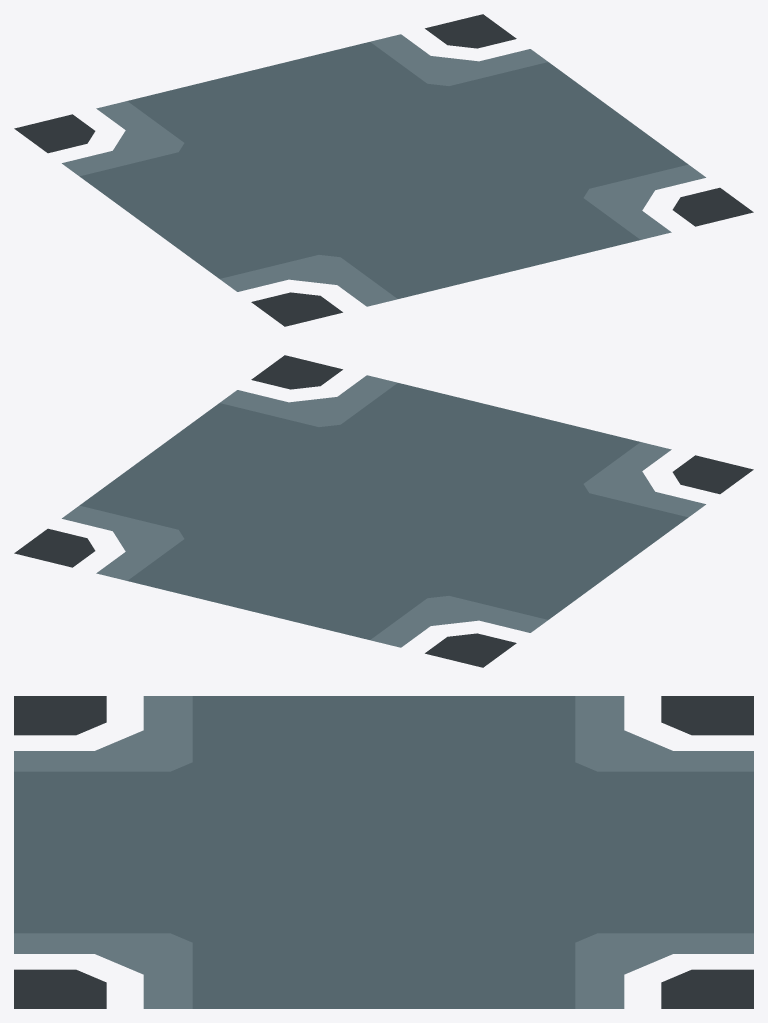
Rendered from Ceiling_type_C_055.glb.
3 views of the same model, one above another, from view 1: azimuth 30°, elevation 25°; view 2: azimuth 150°, elevation 25°; view 3: azimuth 270°, elevation 25° (orthographic). The views are drawn at different scales.
Visible parts, largest first — view 1: Ceiling_type_C_055; view 2: Ceiling_type_C_055; view 3: Ceiling_type_C_055.
Part boxes in pixels (x1,y1,x2,y2): Ceiling_type_C_055: [14, 14, 753, 326]; Ceiling_type_C_055: [14, 355, 753, 667]; Ceiling_type_C_055: [14, 696, 753, 1008].
Size of the model in its own units: 4 by 0.035 by 4.
Materials: 2 (2 with a texture image).
